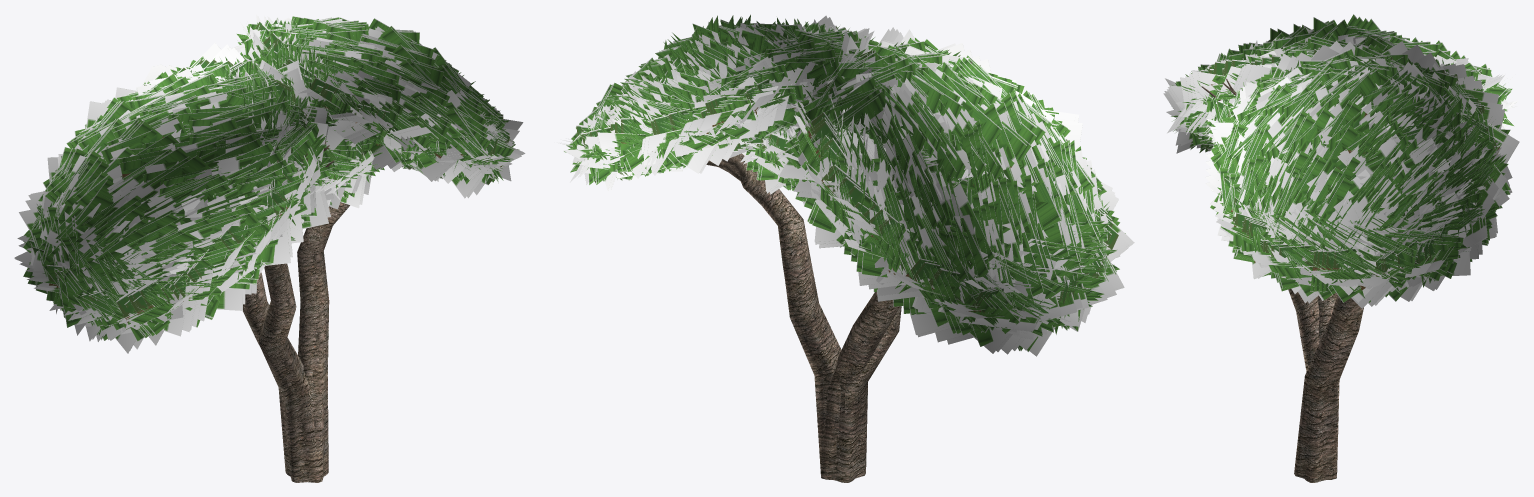
The model's file is accacia_geant.FBX.
The picture shows the model from 3 angles, left to right: view 1: azimuth 30°, elevation 25°; view 2: azimuth 150°, elevation 25°; view 3: azimuth 270°, elevation 25°; orthographic projection. The views are drawn at different scales.
Parts seen in each view (by area): view 1: accacia_geant_02; view 2: accacia_geant_02; view 3: accacia_geant_02.
Boxes of the visible parts, x1,y1,x2,y2 form: accacia_geant_02: (14,14,525,482); accacia_geant_02: (557,14,1134,482); accacia_geant_02: (1163,14,1519,482).
Bounding box in the file's own units: 20606 × 17417 × 13195.
2 materials, 2 textured.
